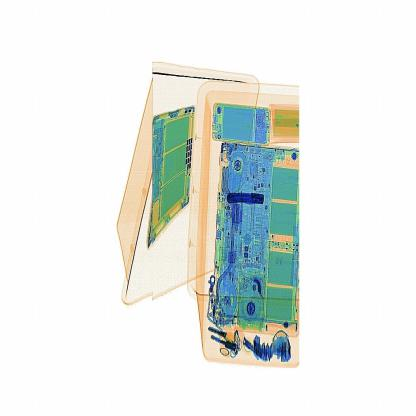knife: (224, 186, 266, 209)
